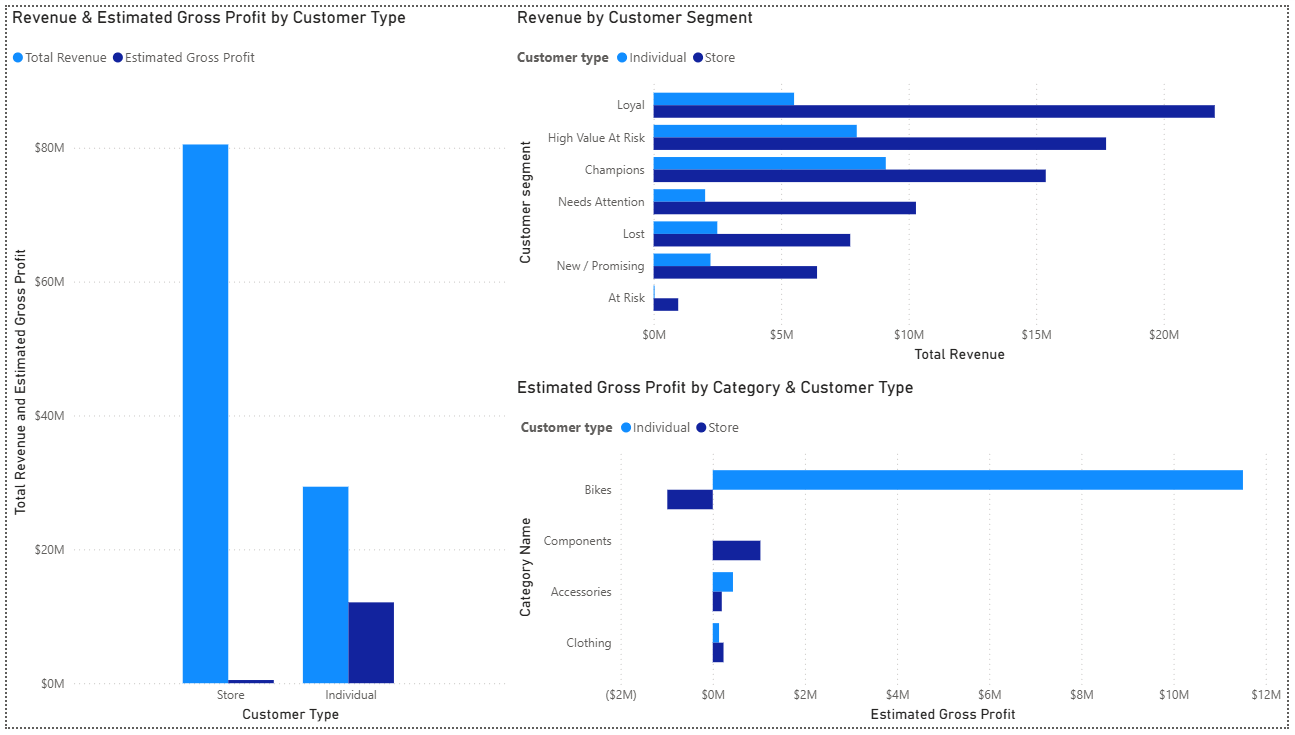

This screenshot's page, from the dashboard's own definition file:
{"tool":"powerbi","page":{"name":"Customer & Profitability","canvas":[1280,720],"ordinal":1},"visuals":[{"type":"clusteredColumnChart","title":"Revenue & Estimated Gross Profit by Customer Type","fields":{"Category":["vw_customer_rfm.customer_type"],"Y":["vw_sales_analysis.Total Revenue","vw_sales_analysis.Total Gross Profit"]},"box":[0,0,505.3,719.8],"z":0},{"type":"clusteredBarChart","title":"Revenue by Customer Segment","fields":{"Category":["vw_customer_rfm.customer_segment"],"Series":["vw_customer_rfm.customer_type"],"Y":["vw_sales_analysis.Total Revenue"]},"box":[505.3,0,774.9,359.9],"z":1},{"type":"clusteredBarChart","title":"Estimated Gross Profit by Category & Customer Type","fields":{"Category":["vw_product_abc.category_name"],"Series":["vw_customer_rfm.customer_type"],"Y":["vw_sales_analysis.Total Gross Profit"]},"box":[505,370.5,774.9,349.8],"z":2}]}

Visuals, with their boxes in screenshot pixels (x1, y1, x2, y2), scaled from the page's 1280x720 canvas onto the 1295x735 screenshot:
"Revenue & Estimated Gross Profit by Customer Type" clusteredColumnChart: <box>0,0,511,734</box>
"Revenue by Customer Segment" clusteredBarChart: <box>511,0,1294,367</box>
"Estimated Gross Profit by Category & Customer Type" clusteredBarChart: <box>511,378,1294,734</box>
